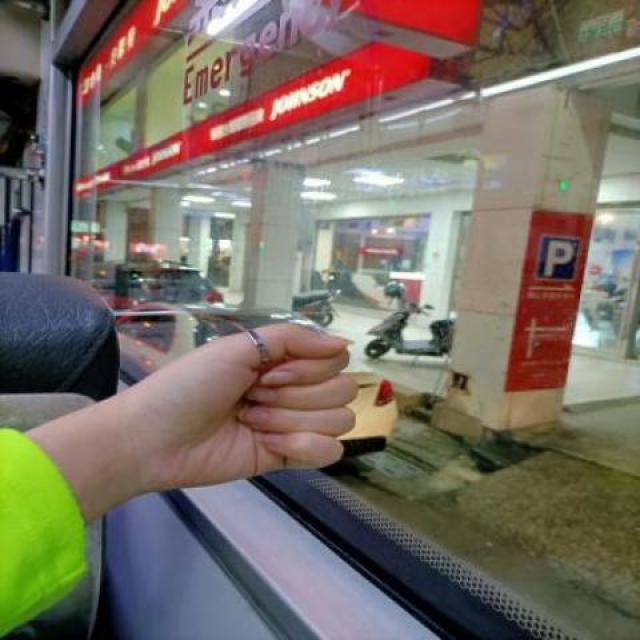Closed Hand: (146, 299, 362, 493)
